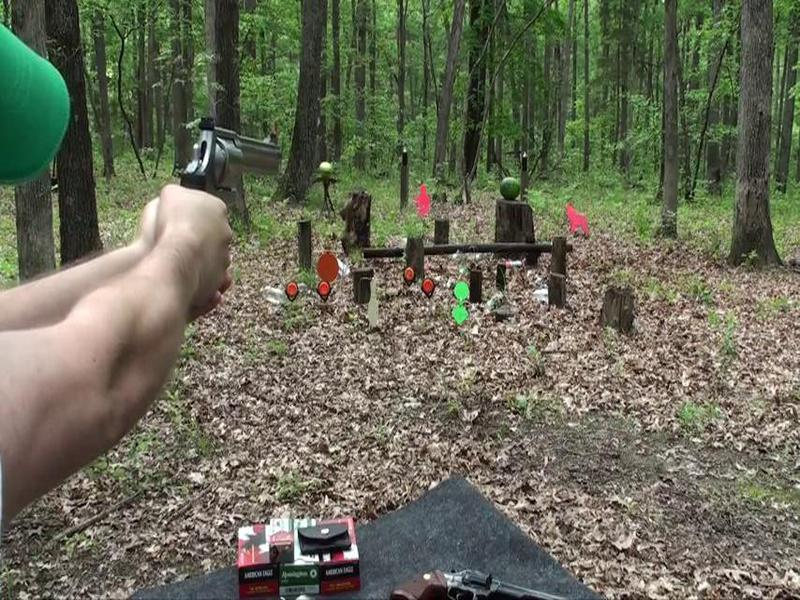Revolver: (158, 103, 325, 239)
